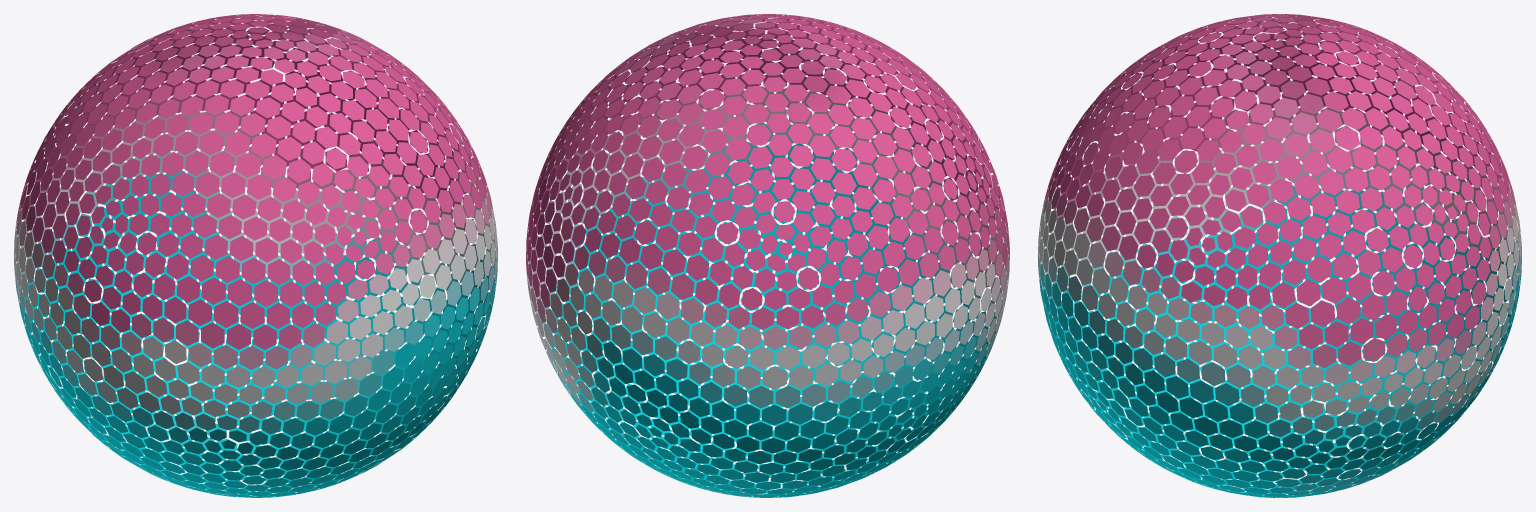
Rendered from mag_earth.fbx.
The picture shows the model from 3 angles, left to right: view 1: azimuth 30°, elevation 25°; view 2: azimuth 150°, elevation 25°; view 3: azimuth 270°, elevation 25°; orthographic projection.
Visible parts, largest first — view 1: magneto_earth; view 2: magneto_earth; view 3: magneto_earth.
Boxes of the visible parts, x1,y1,x2,y2 form: magneto_earth: (14,14,497,497); magneto_earth: (526,14,1009,497); magneto_earth: (1038,14,1521,497).
Bounding box in the file's own units: 218 × 218 × 218.
